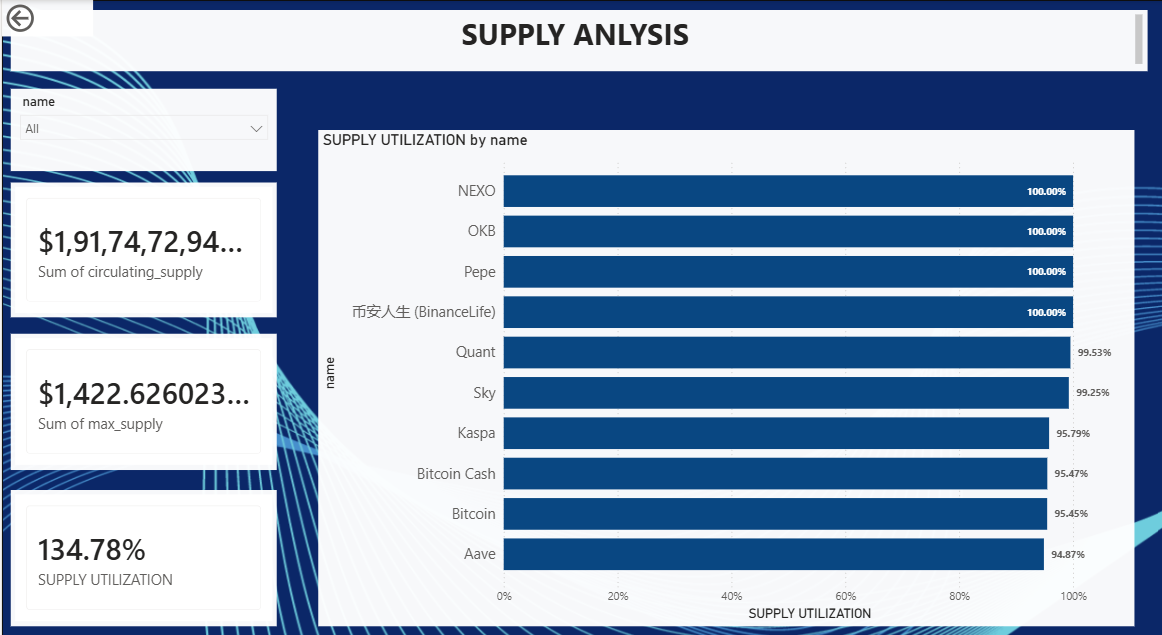

The page's visual inventory and layout, read from the dashboard file:
{"tool":"powerbi","page":{"name":"SUPPLY ANALYSIS","canvas":[1280,720],"ordinal":2},"visuals":[{"type":"textbox","box":[9.8,11.4,1247.6,67],"z":0},{"type":"cardVisual","fields":{"Data":["Query.SUPPLY UTILIZATION"]},"box":[9.6,537.9,292.3,149.6],"z":1000},{"type":"clusteredBarChart","fields":{"Category":["Query.name"],"Y":["Query.SUPPLY UTILIZATION"]},"box":[346.7,142.3,896.1,544.5],"z":2000},{"type":"cardVisual","fields":{"Data":["Sum(Query.circulating_supply)"]},"box":[9.6,200.3,292.3,148.2],"z":3000},{"type":"cardVisual","fields":{"Data":["Sum(Query.max_supply)"]},"box":[9.6,366.4,292.3,149.6],"z":4000},{"type":"slicer","fields":{"Values":["Query.name"]},"box":[9.6,97.4,292.3,90.6],"z":5000},{"type":"actionButton","box":[0,0,100,40],"z":6000}]}

Visuals, with their boxes in screenshot pixels (x1, y1, x2, y2):
textbox: 12, 10, 1138, 71
cardVisual - Query.SUPPLY UTILIZATION: 12, 485, 275, 620
clusteredBarChart - Query.name x Query.SUPPLY UTILIZATION: 316, 128, 1125, 620
cardVisual - Sum(Query.circulating_supply): 12, 181, 275, 314
cardVisual - Sum(Query.max_supply): 12, 331, 275, 466
slicer - Query.name: 12, 88, 275, 170
actionButton: 3, 0, 93, 36
